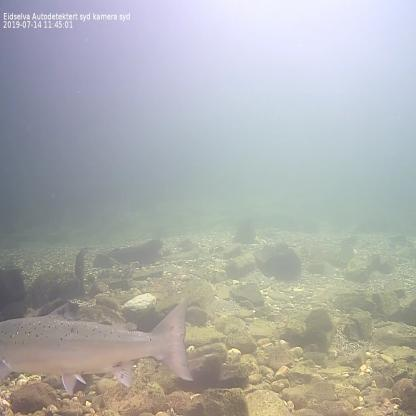salmon: (0, 294, 198, 398)
